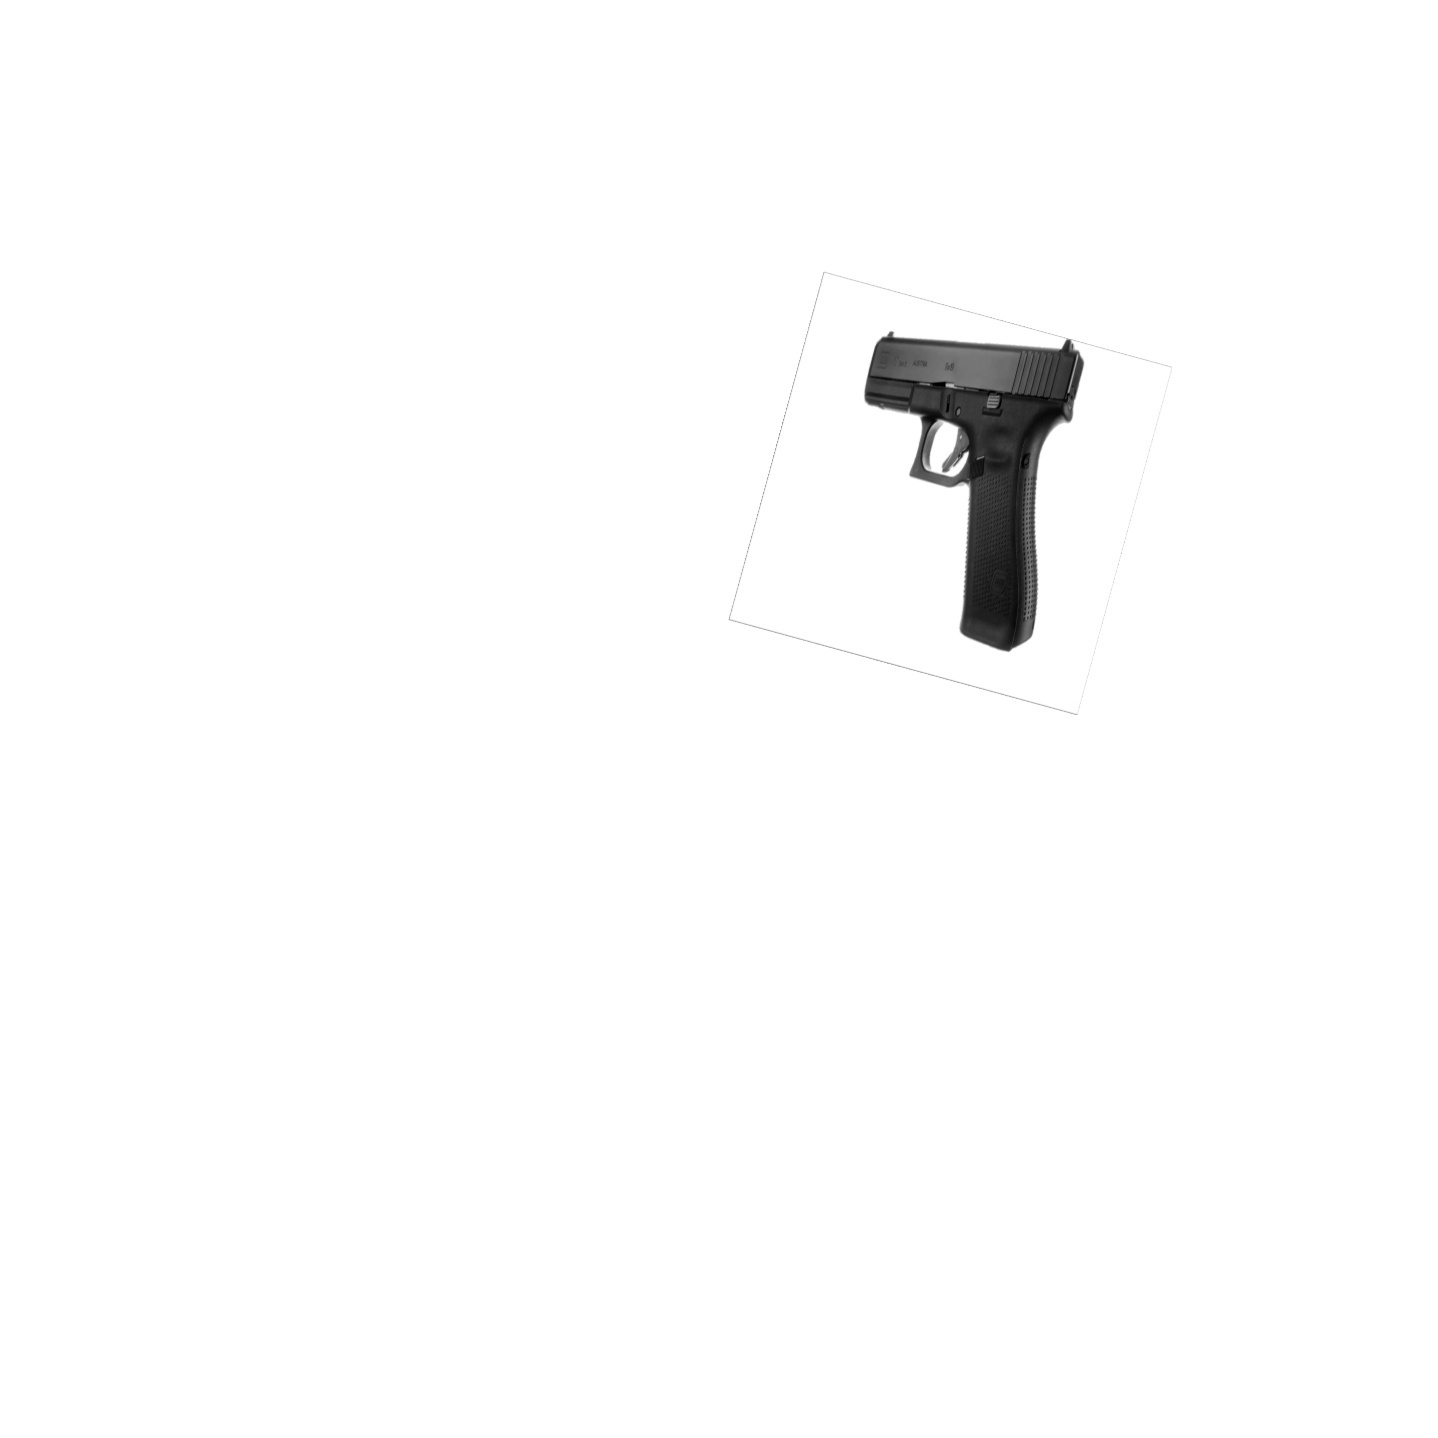gun: (860, 327, 1092, 651)
